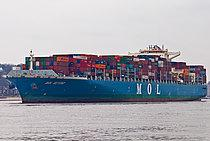Ship: (5, 45, 210, 106)
